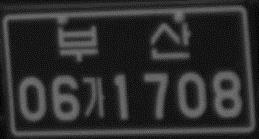0: (176, 70, 209, 119), (17, 74, 47, 123)
1: (110, 71, 132, 121)
6: (49, 73, 82, 122)
7: (141, 71, 170, 120)
8: (210, 68, 243, 119)
가: (80, 74, 109, 119)
부산_D: (55, 19, 193, 63)
